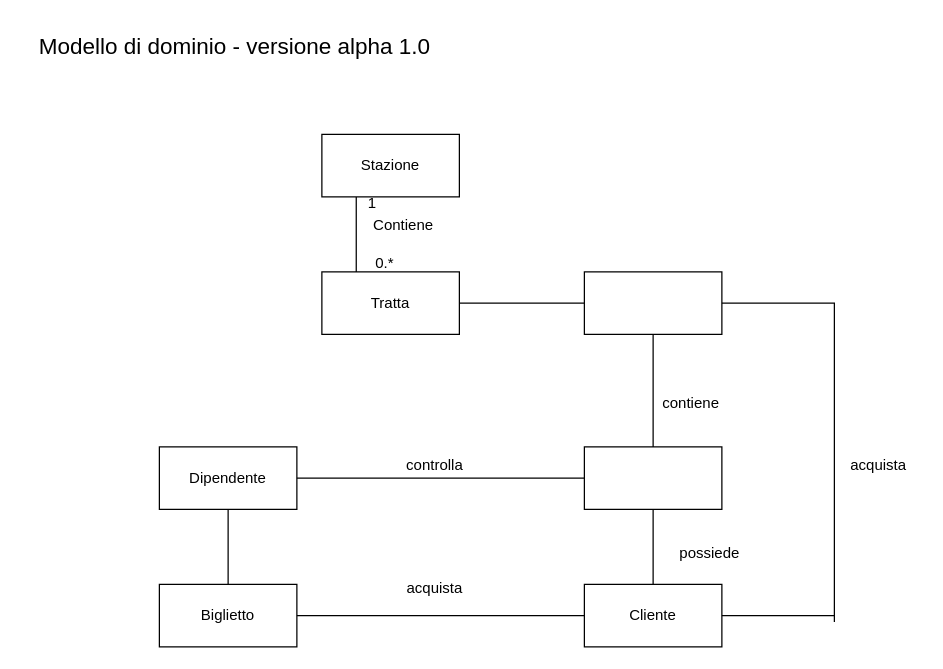
This 943x669 diagram has some shape labels left out. The shapes that lost their labels are listed below. From the top down, each one's centre as x and y in pixels, then its label:
At point (652, 302): "Abbonamento".
At point (652, 477): "Tessera".
